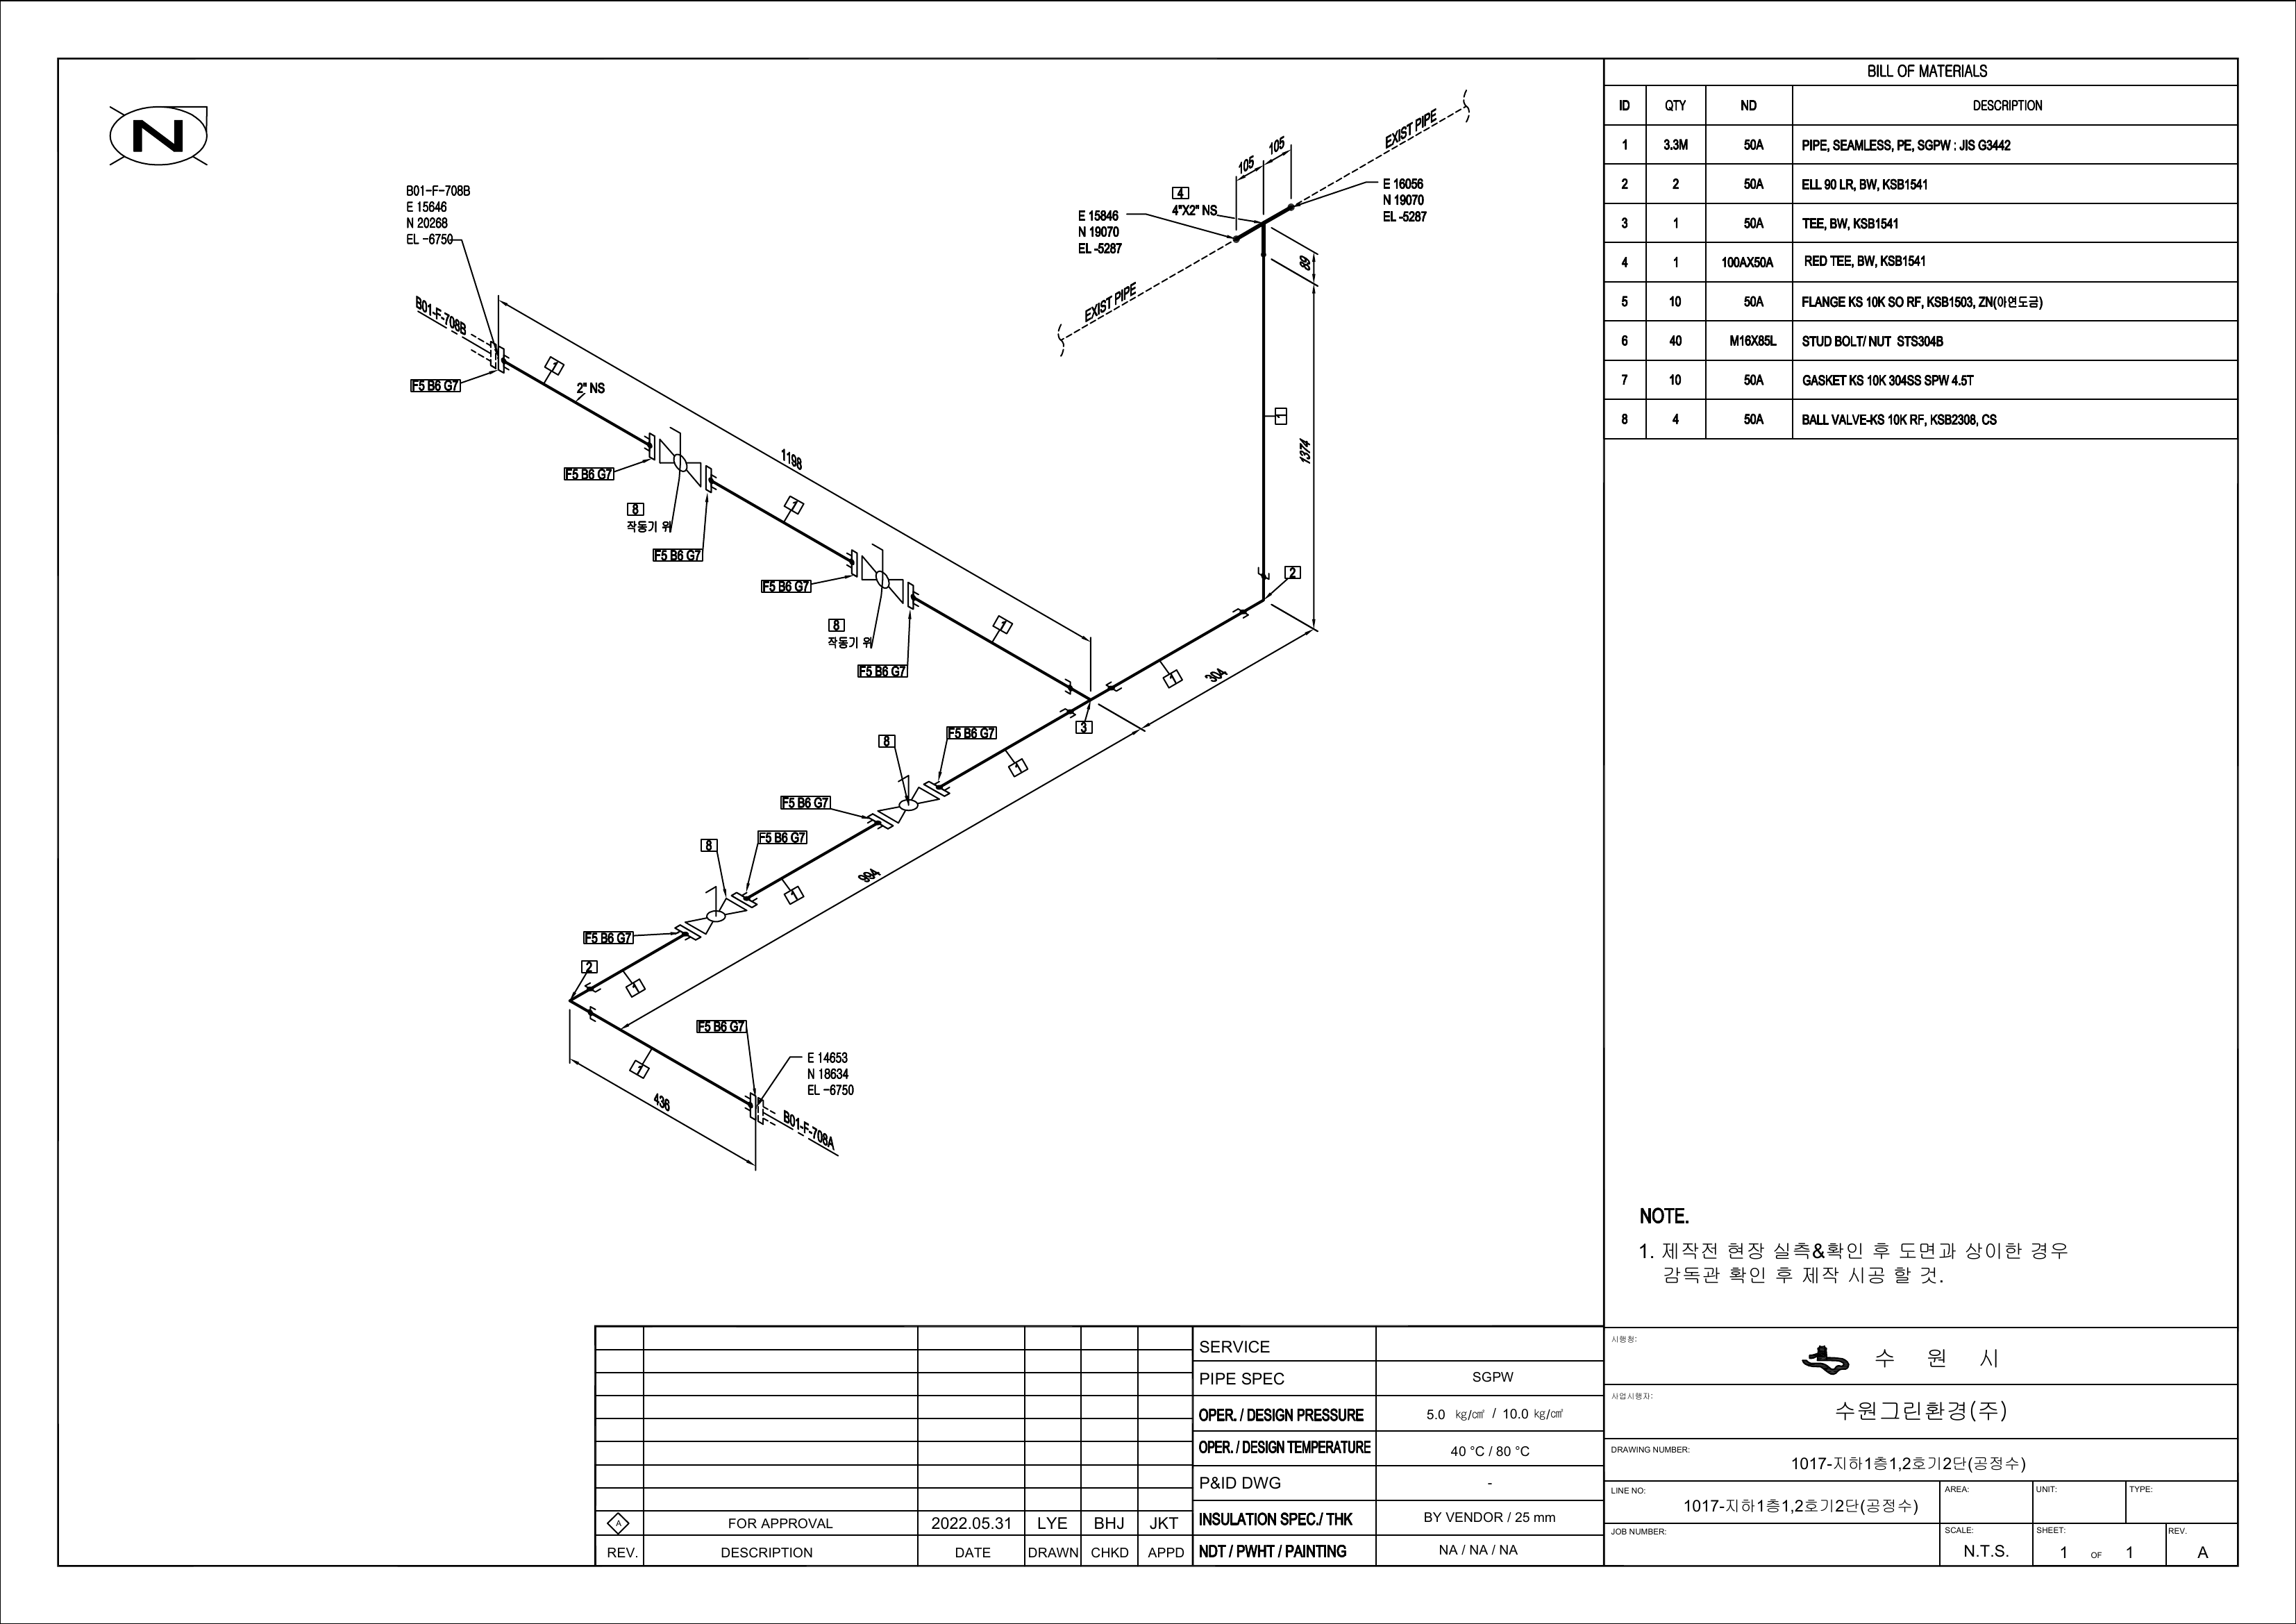table: (1595, 47, 2245, 450)
